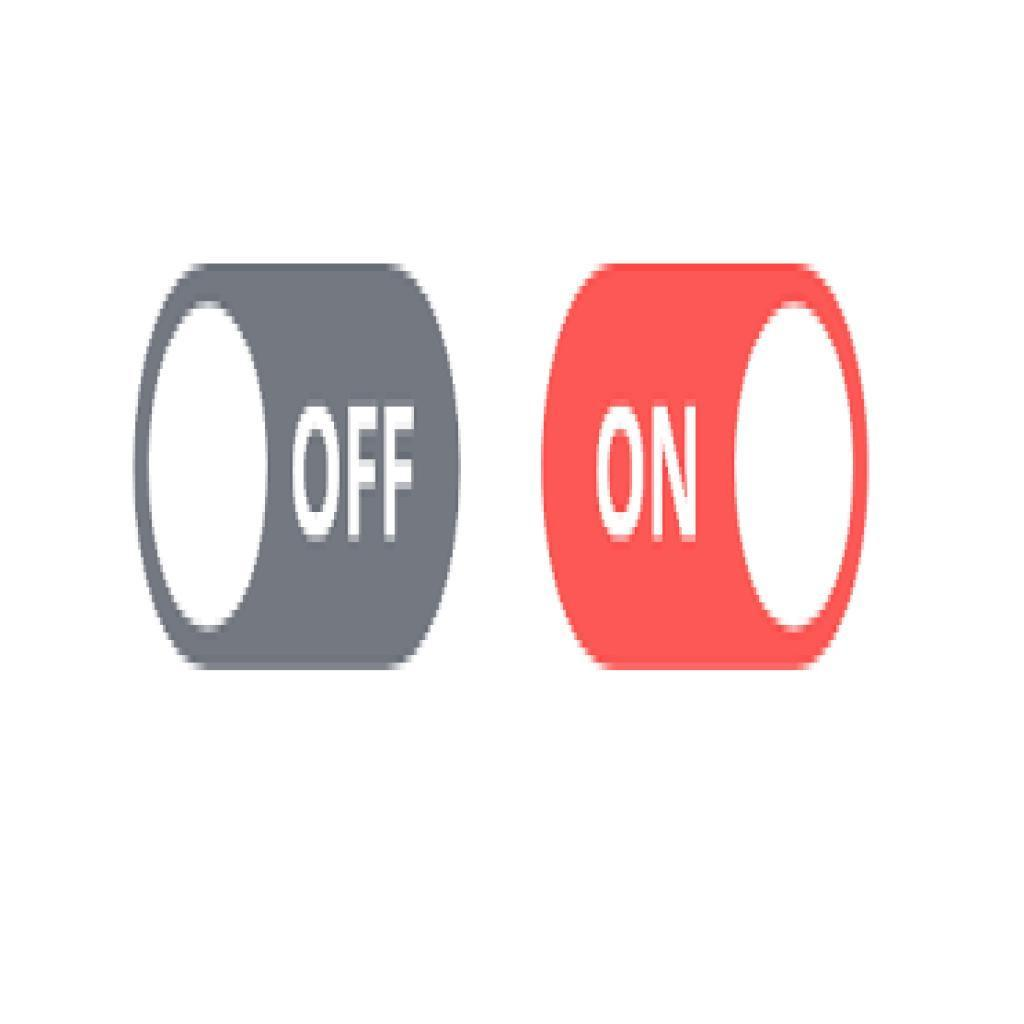switch: (538, 264, 873, 674), (133, 263, 462, 673)
